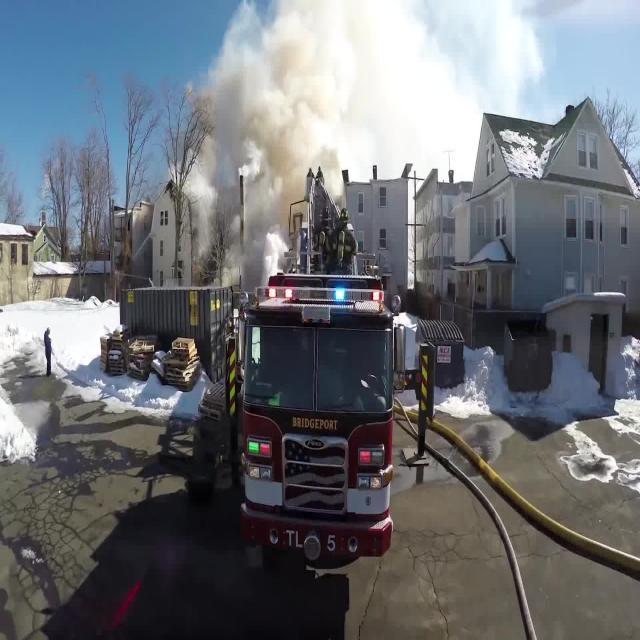Smoke: (209, 3, 457, 154), (195, 39, 281, 255)
